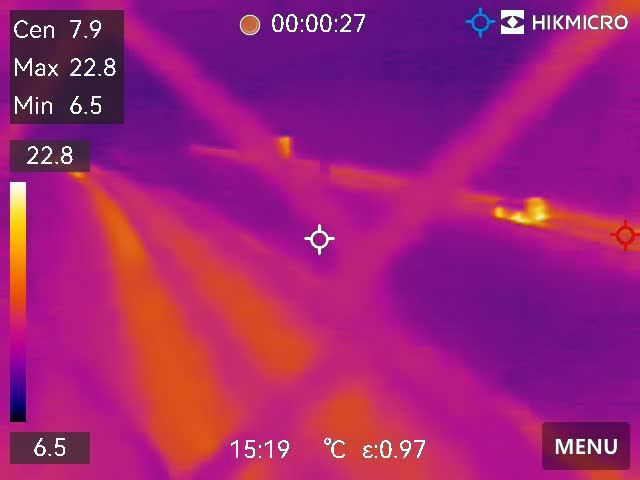vehicle: (493, 197, 547, 223)
